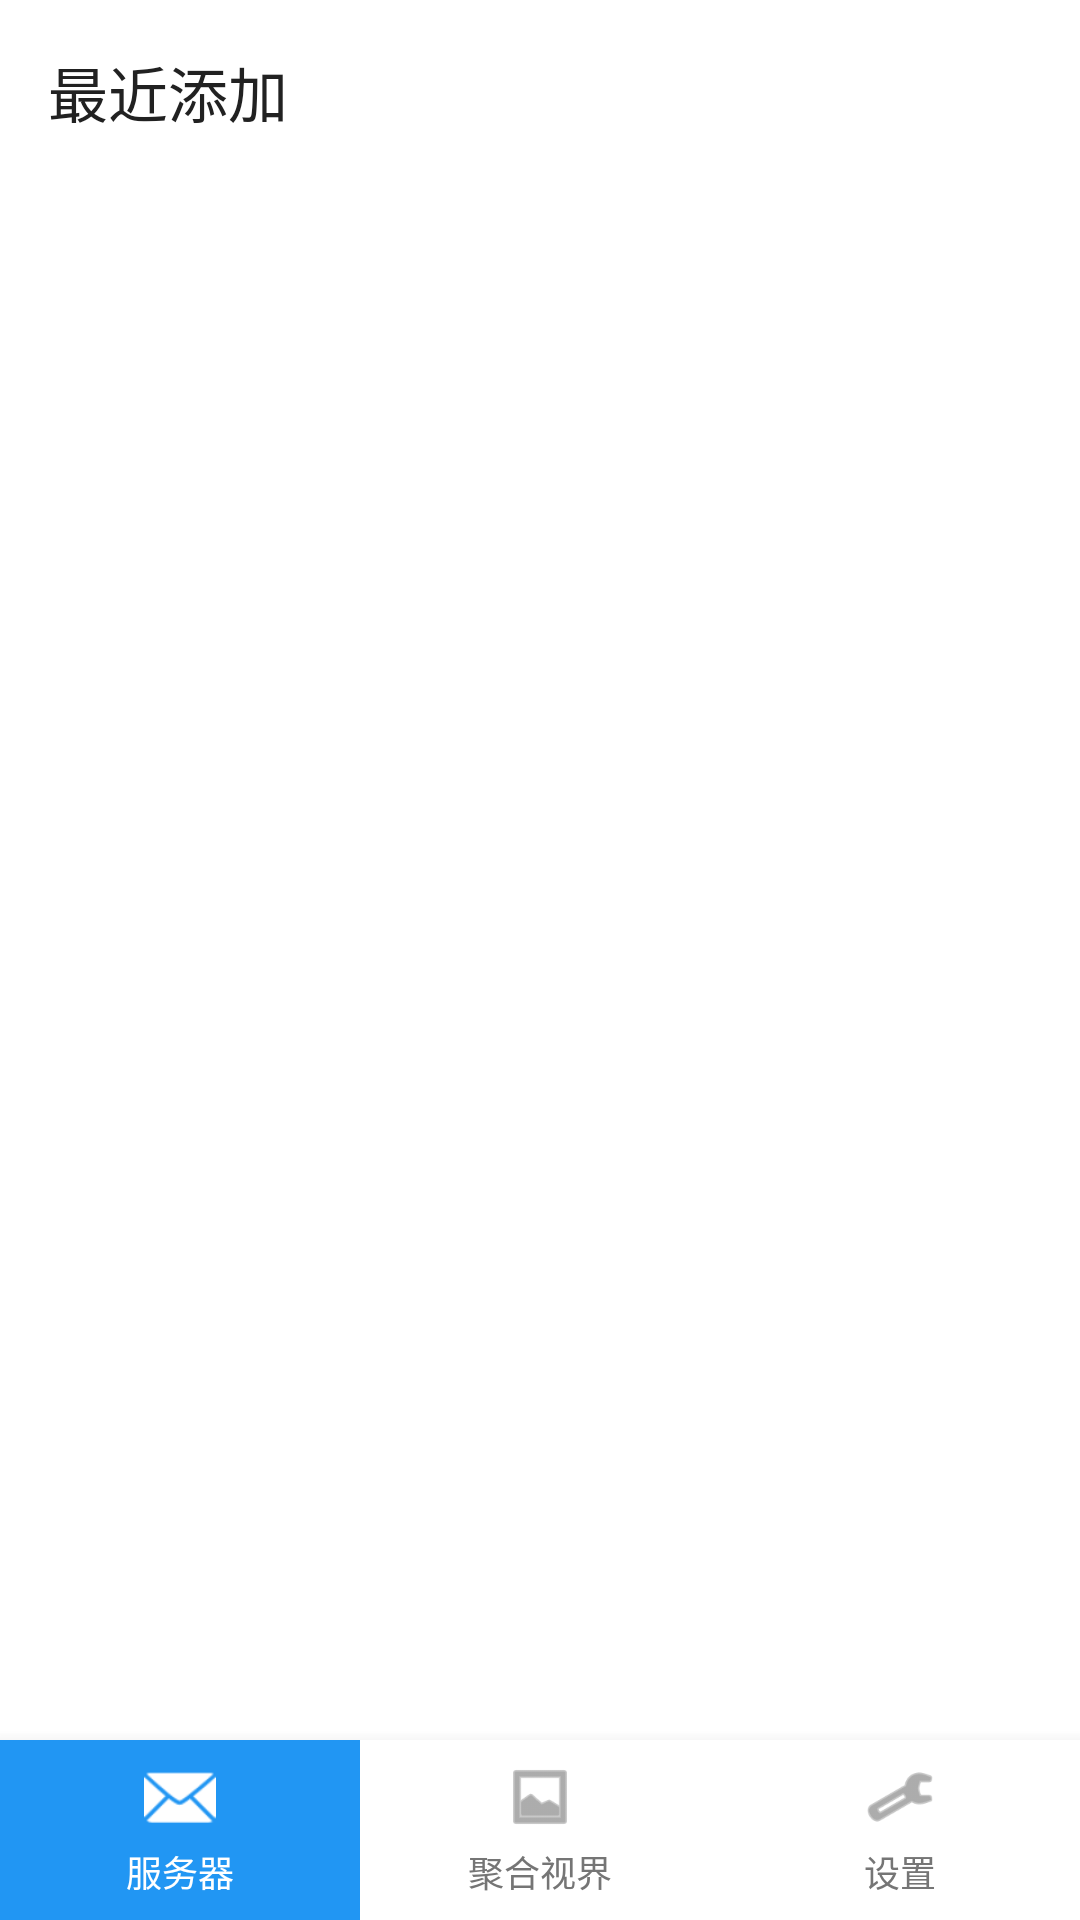

Where to tap for icons on this 1080px x 1920px app screen, as (x,y):
email: (180,1797)
gallery: (540,1797)
